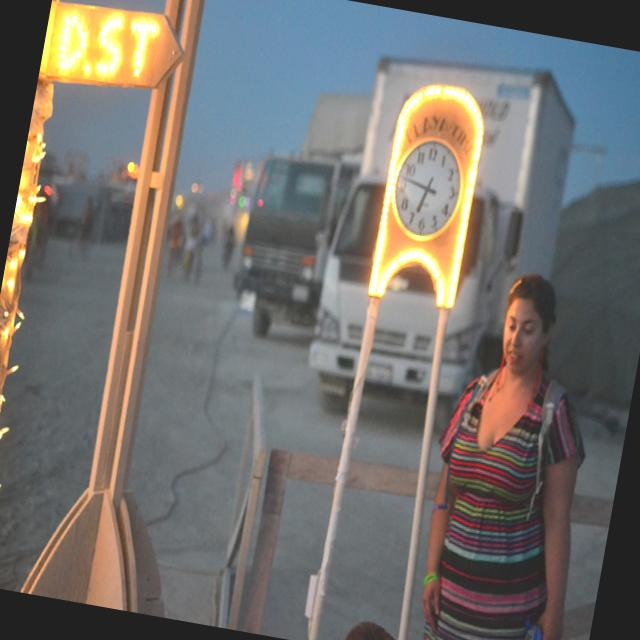Vehicle: (302, 41, 590, 430), (228, 85, 369, 348)
